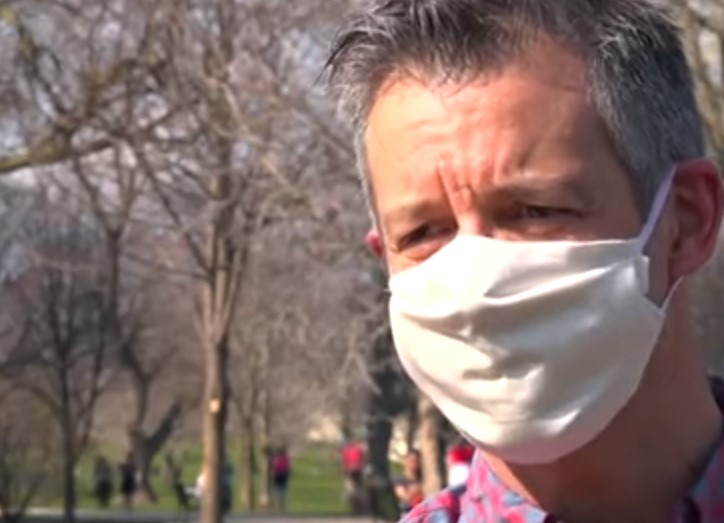face_with_mask: (358, 3, 722, 467)
